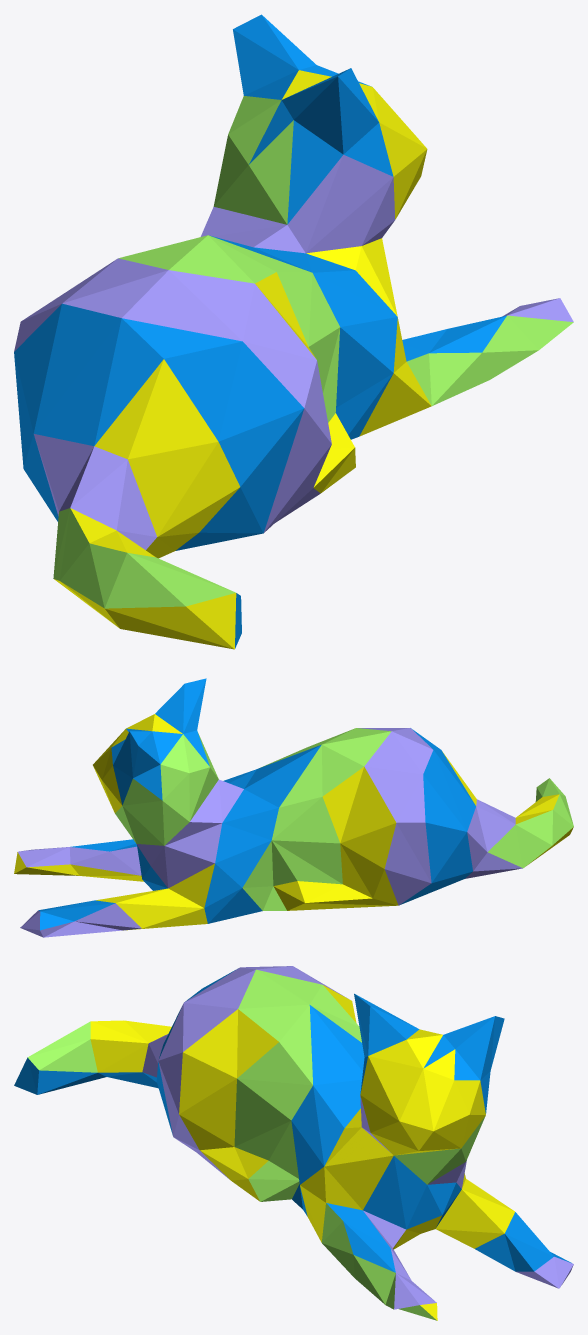
The model's file is chat310.obj.
3 views of the same model, one above another, from view 1: azimuth 30°, elevation 25°; view 2: azimuth 150°, elevation 25°; view 3: azimuth 270°, elevation 25° (orthographic). The views are drawn at different scales.
Parts seen in each view (by area): view 1: STL_color_000_153_256, STL_color_163_153_256, STL_color_256_256_001, STL_color_163_254_102; view 2: STL_color_000_153_256, STL_color_163_254_102, STL_color_163_153_256, STL_color_256_256_001; view 3: STL_color_256_256_001, STL_color_000_153_256, STL_color_163_254_102, STL_color_163_153_256.
Part boxes in pixels (x1=…): STL_color_000_153_256: x1=14, y1=14, x2=506, y2=648; STL_color_163_153_256: x1=14, y1=154, x2=573, y2=550; STL_color_256_256_001: x1=54, y1=70, x2=431, y2=649; STL_color_163_254_102: x1=53, y1=96, x2=573, y2=608; STL_color_000_153_256: x1=38, y1=678, x2=475, y2=930; STL_color_163_254_102: x1=115, y1=728, x2=573, y2=910; STL_color_163_153_256: x1=18, y1=728, x2=522, y2=937; STL_color_256_256_001: x1=14, y1=714, x2=573, y2=930; STL_color_256_256_001: x1=90, y1=985, x2=514, y2=1320; STL_color_000_153_256: x1=14, y1=970, x2=571, y2=1272; STL_color_163_254_102: x1=28, y1=969, x2=485, y2=1320; STL_color_163_153_256: x1=142, y1=966, x2=573, y2=1309.
Size of the model in its own units: 198 by 94.78 by 200.
